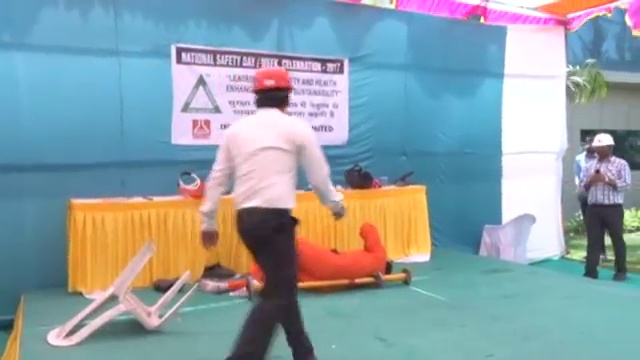helmet: (251, 65, 294, 94), (592, 131, 616, 148)
helmet_on: (251, 63, 295, 113), (591, 130, 617, 162)
person: (195, 65, 345, 360), (200, 221, 399, 294), (577, 132, 632, 284)
